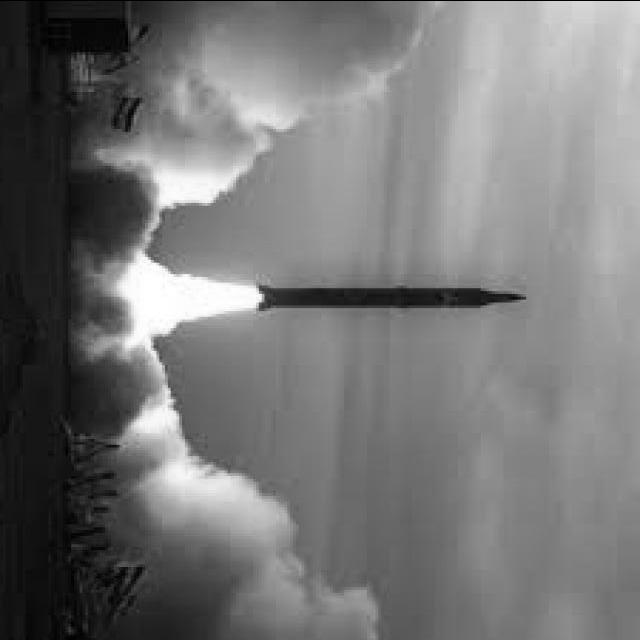missile: (235, 278, 535, 322)
